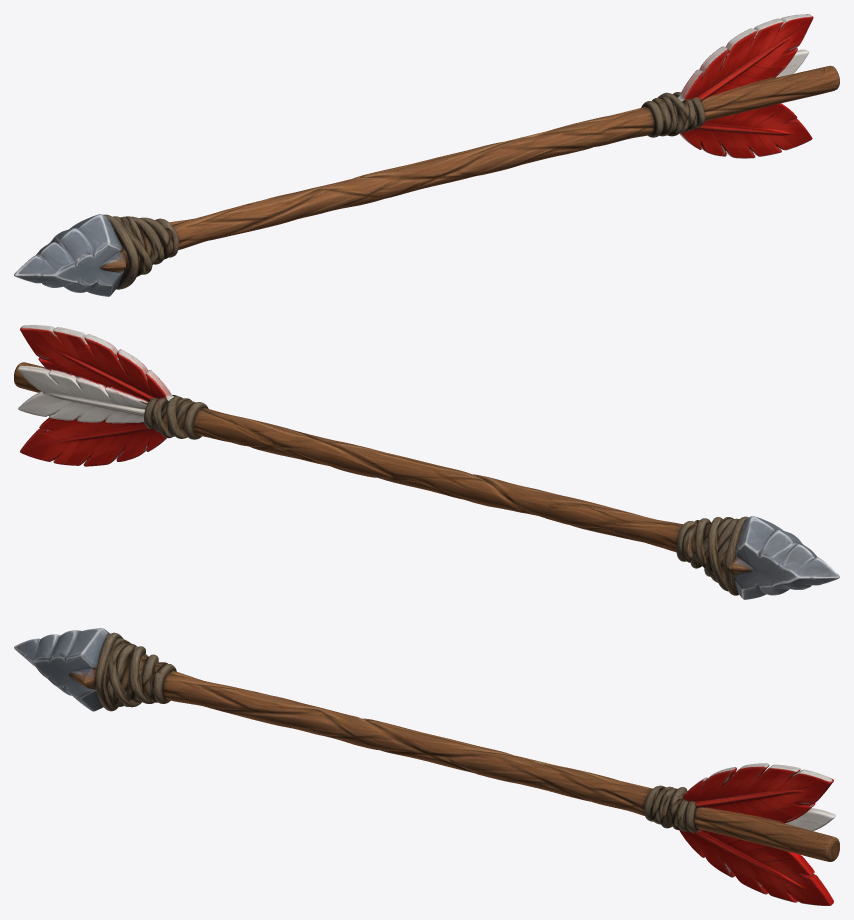
File: Pfeil.glb
The picture shows the model from 3 angles, top to bottom: view 1: azimuth 30°, elevation 25°; view 2: azimuth 150°, elevation 25°; view 3: azimuth 330°, elevation 25°; orthographic projection.
Bounding box in the file's own units: 1.9 × 0.294 × 0.1677.
1 material, 1 textured.
